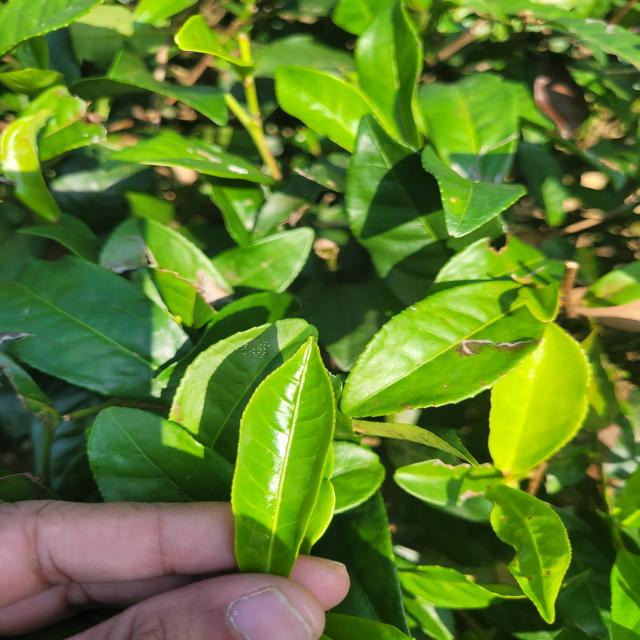Catagory A 1-2 days: (219, 333, 342, 580)
